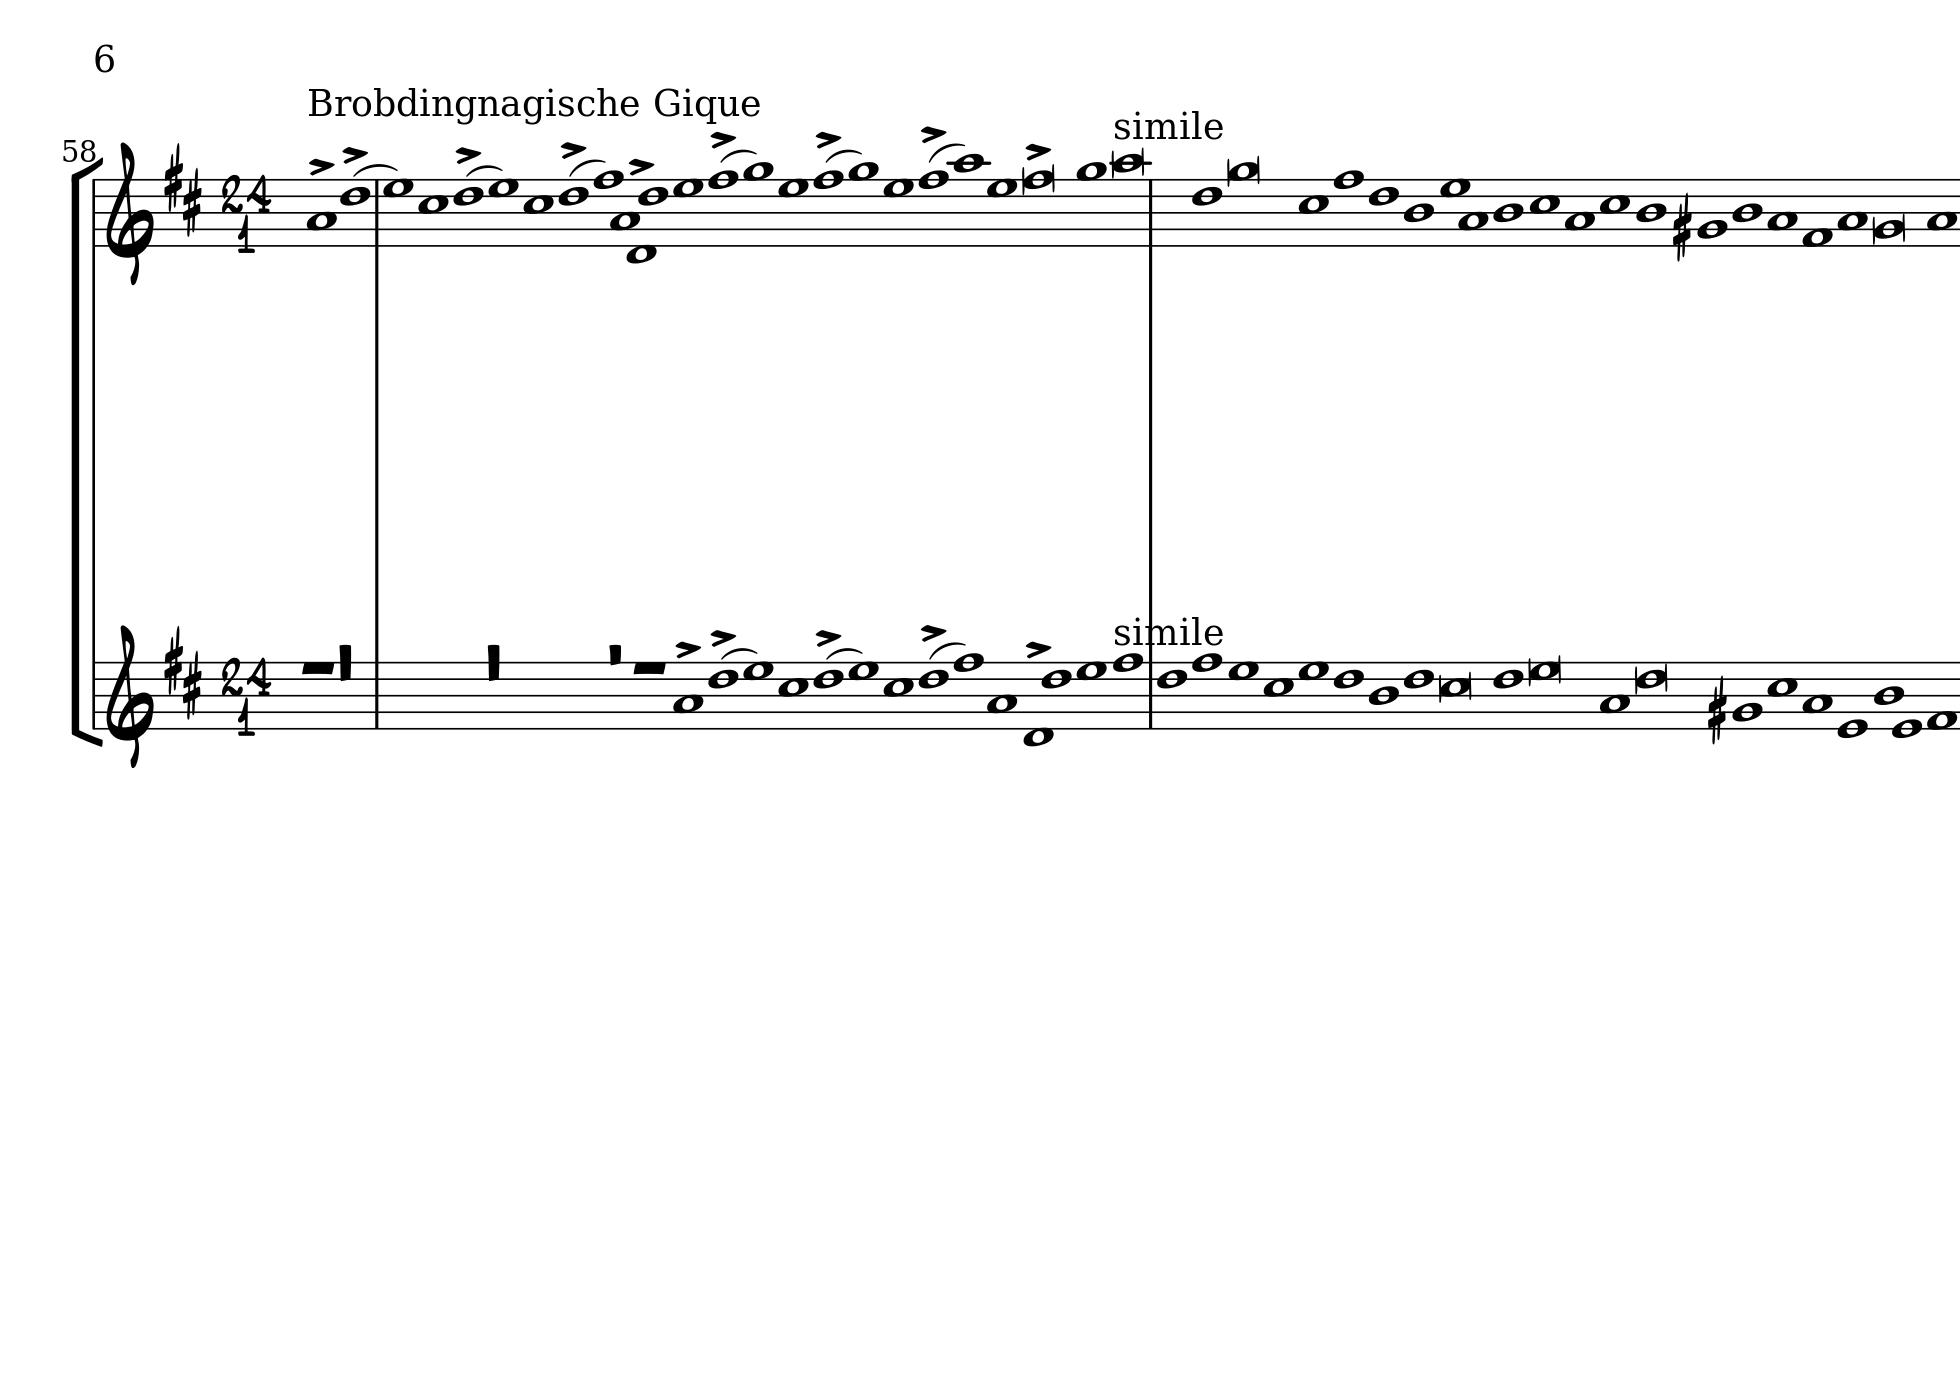1_0: (1836, 661, 1869, 739)
1_1: (1801, 178, 1836, 247), (1926, 661, 1960, 730)
1_10: (1110, 151, 1147, 247), (949, 153, 987, 247)
1_2: (1696, 178, 1729, 249), (1873, 178, 1906, 249), (1734, 661, 1761, 732)
1_3: (1764, 177, 1798, 247), (1597, 660, 1632, 730), (304, 175, 337, 247), (1564, 178, 1599, 246), (1839, 177, 1872, 247), (1803, 661, 1836, 732), (987, 661, 1020, 732), (673, 660, 703, 733), (1929, 178, 1959, 249)
1_4: (1368, 661, 1401, 733), (1402, 178, 1435, 247), (1635, 178, 1666, 247), (1732, 178, 1764, 247), (1494, 178, 1524, 247)
1_5: (1528, 178, 1561, 247), (1263, 660, 1294, 732), (1599, 177, 1632, 244), (1297, 178, 1329, 247), (418, 178, 450, 247), (523, 177, 555, 246), (778, 660, 808, 732), (1440, 660, 1470, 732), (1767, 658, 1797, 730), (883, 660, 913, 730)
1_6: (811, 658, 844, 730), (706, 661, 739, 733), (916, 661, 949, 733), (1155, 660, 1188, 732), (1332, 661, 1365, 733), (1404, 661, 1437, 733), (1494, 661, 1527, 733), (1191, 178, 1224, 249), (340, 177, 372, 250), (453, 177, 484, 250), (558, 177, 589, 250), (637, 175, 669, 247), (1368, 177, 1399, 249), (1041, 661, 1072, 733), (1633, 658, 1665, 730)
1_7: (847, 658, 879, 732), (382, 177, 414, 247), (487, 177, 519, 247), (1077, 658, 1108, 729), (672, 175, 703, 244), (1227, 661, 1258, 730), (778, 175, 808, 246), (883, 177, 913, 247), (987, 177, 1017, 247), (1299, 660, 1329, 730), (1530, 660, 1560, 730), (742, 661, 772, 730)
1_8: (954, 652, 984, 730), (708, 169, 738, 246), (814, 169, 844, 246), (919, 169, 949, 246), (1023, 168, 1053, 244), (1333, 169, 1363, 246), (1192, 651, 1221, 730), (1116, 652, 1144, 730)
1_9: (847, 160, 879, 247), (1228, 160, 1260, 247), (742, 160, 772, 247), (1077, 160, 1107, 246)
2: (219, 649, 244, 696)
4: (246, 171, 273, 214), (219, 169, 244, 214), (247, 655, 271, 696)
5: (61, 135, 79, 163)
6: (94, 40, 115, 72)
8: (78, 136, 97, 163)
Accent_above: (918, 121, 949, 142), (625, 154, 657, 175), (1023, 637, 1054, 658), (558, 138, 588, 159), (1023, 139, 1053, 160), (340, 142, 370, 163), (453, 142, 483, 163), (306, 154, 336, 175), (918, 621, 948, 642), (673, 637, 703, 658), (708, 637, 742, 655), (813, 127, 841, 148), (709, 625, 738, 646), (813, 625, 841, 646), (708, 127, 736, 147)
Bracke: (64, 156, 100, 759)
D_S: (160, 622, 202, 718), (162, 141, 202, 235)
Gclef: (103, 622, 157, 769), (103, 139, 156, 286)
Rests1: (628, 657, 669, 679), (295, 655, 337, 675)
Sharp: (1671, 190, 1693, 262), (1707, 678, 1728, 744)
Single_barline: (1141, 178, 1161, 244), (367, 661, 385, 727), (1143, 664, 1159, 727), (369, 184, 385, 246), (87, 178, 100, 246), (87, 661, 100, 727)
Slur: (925, 141, 966, 162), (565, 157, 607, 175), (925, 640, 967, 658), (354, 162, 399, 175), (718, 147, 757, 162), (823, 148, 862, 162), (720, 645, 759, 658), (825, 645, 864, 658), (463, 163, 504, 175)
TimeSig: (220, 172, 271, 253), (220, 655, 271, 736)
